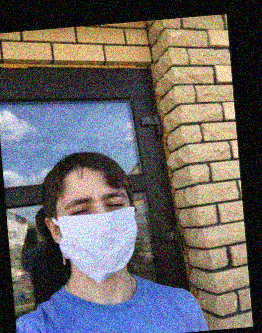with_mask: (53, 180, 137, 284)
